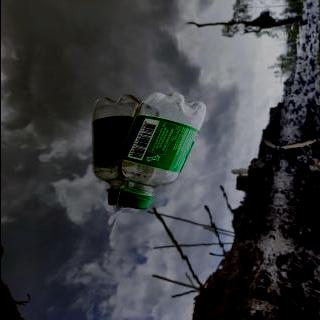bottle: (113, 90, 208, 212)
